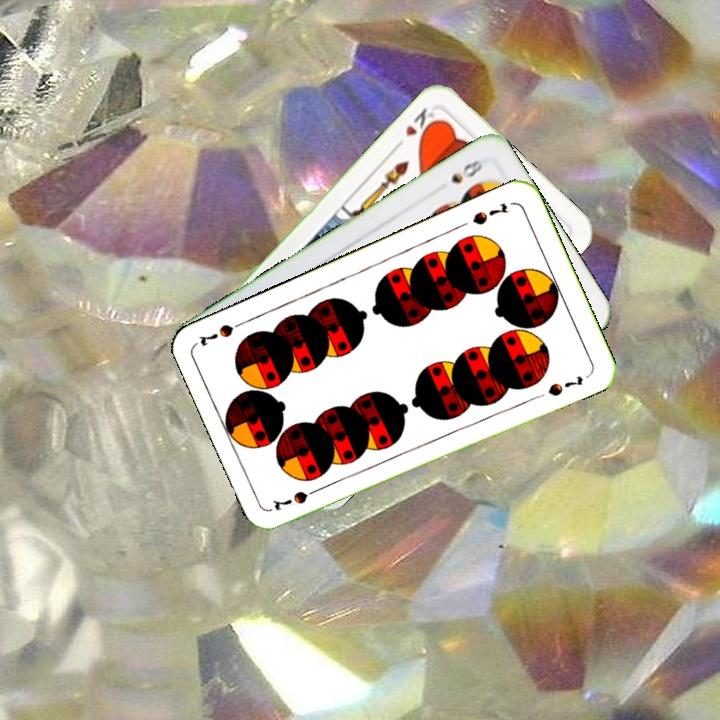HK: (390, 103, 442, 152)
S7: (269, 482, 325, 513), (468, 198, 511, 228)
S8: (446, 153, 487, 186)
